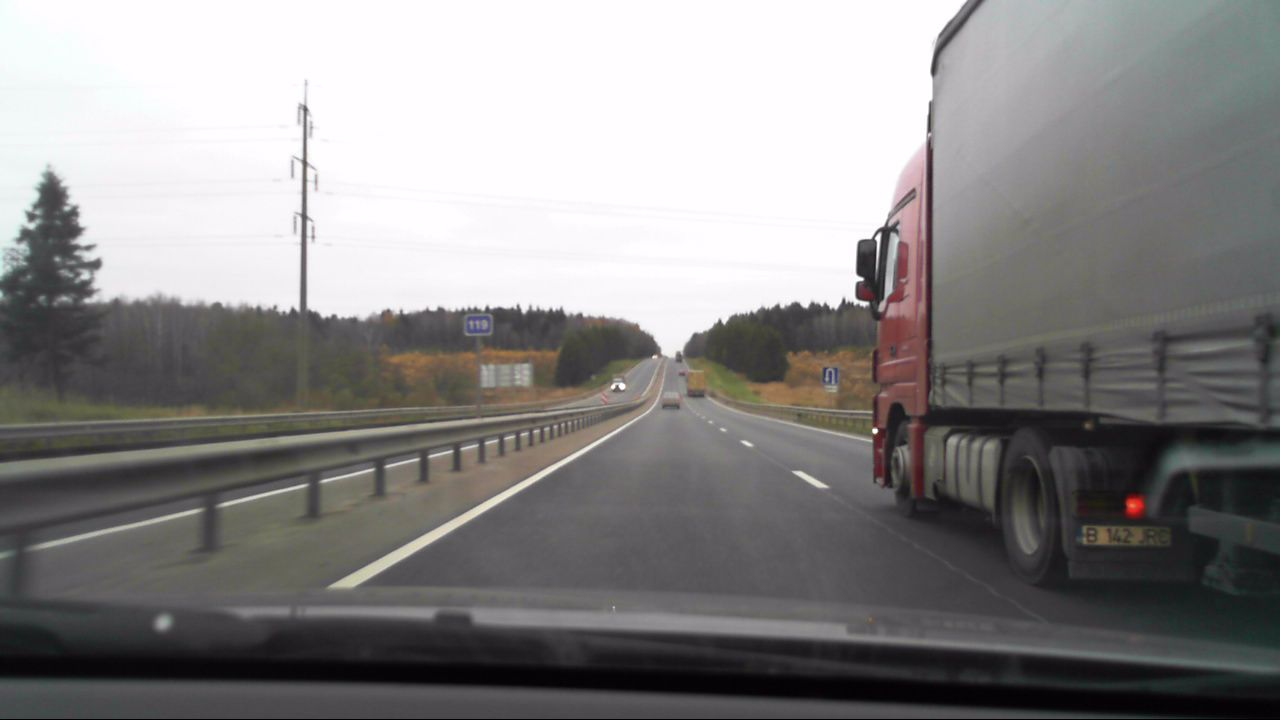U-turn: (823, 368, 838, 385)
